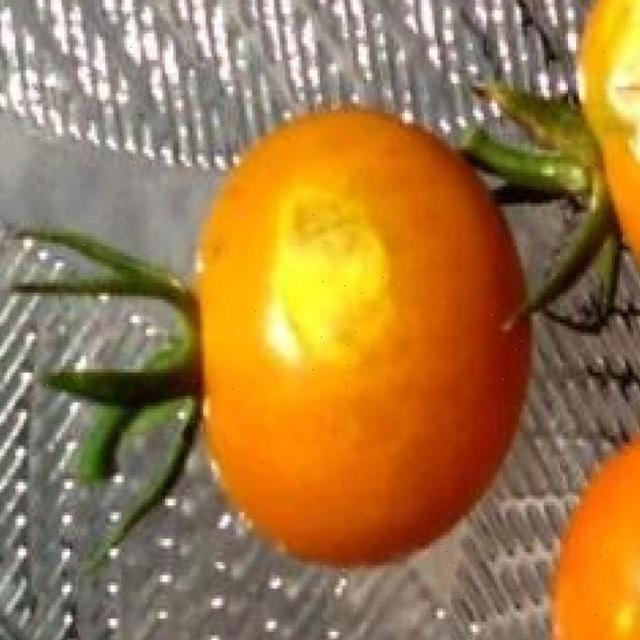Sunscald Fruit: (180, 122, 280, 275)
